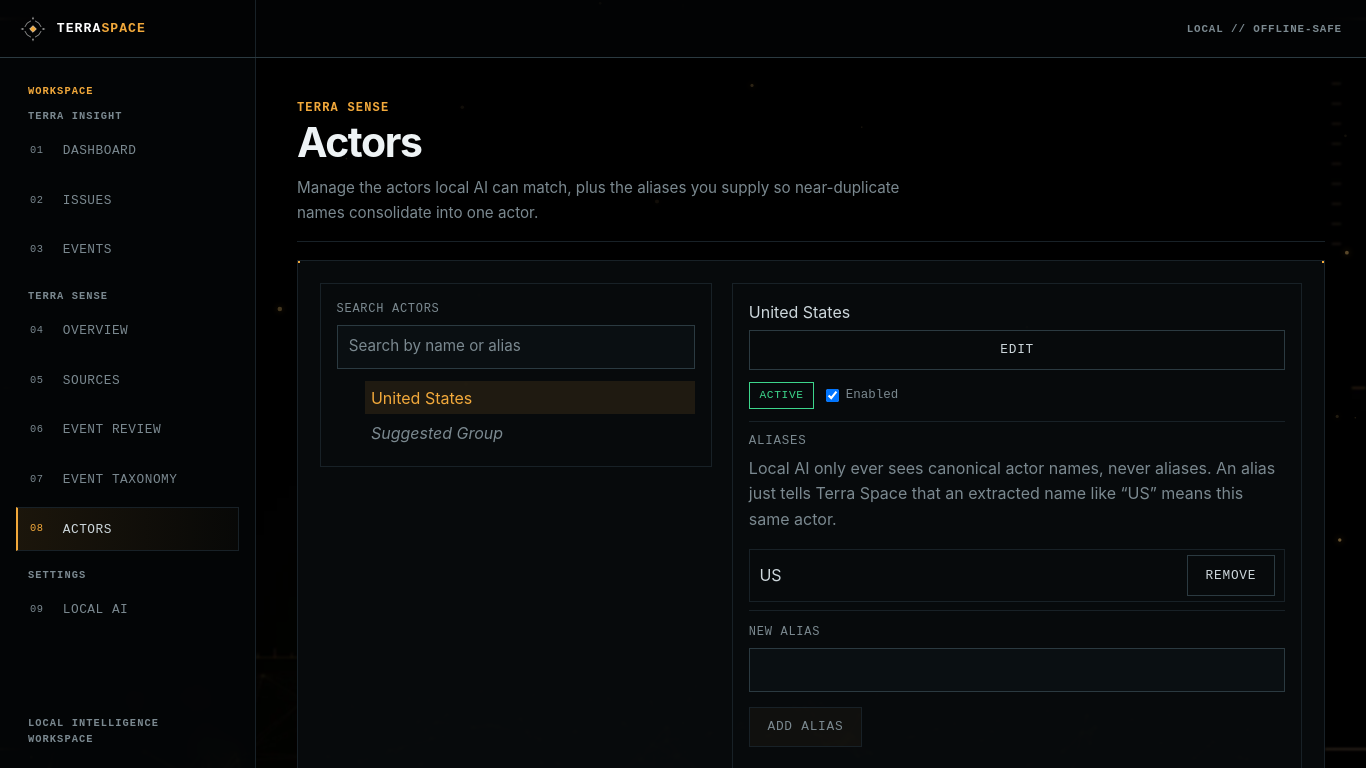
Test: ActorsWorkspace › selects a different actor from the list and updates the inspector
Expected: the heading "United States" is shown, [749,302,850,322]
Step 1. Click the button "Suggested Group" → coordinates (437, 433), box [364,417,695,450]
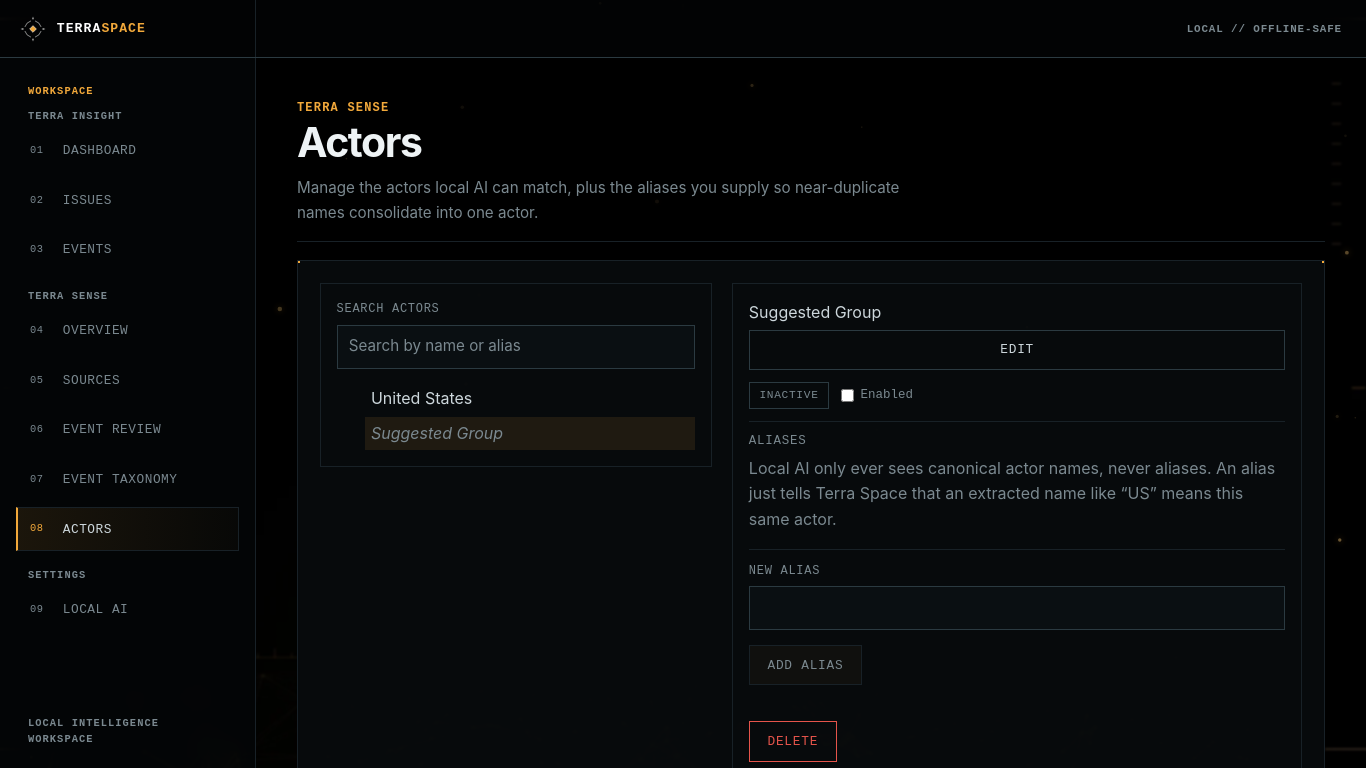
Expected: the heading "Suggested Group" is shown, [749,302,881,322]
